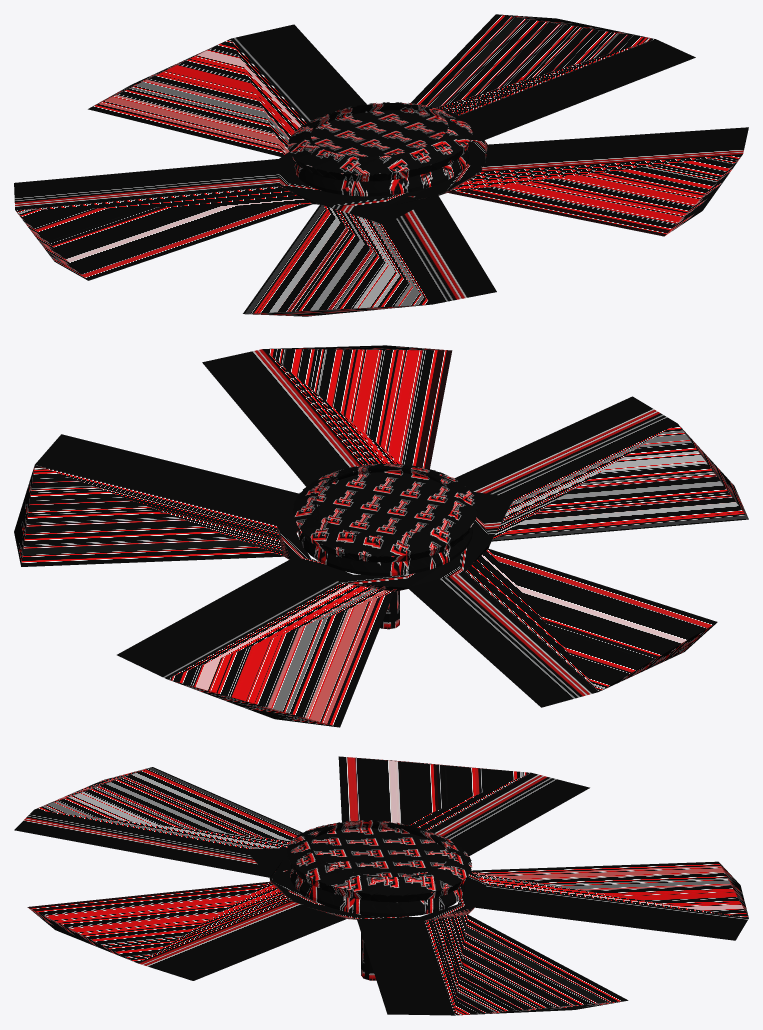
The model's file is fan.glb.
3 views of the same model, one above another, from view 1: azimuth 30°, elevation 25°; view 2: azimuth 150°, elevation 25°; view 3: azimuth 270°, elevation 25° (orthographic).
Visible parts, largest first — view 1: Cylinder; view 2: Cylinder; view 3: Cylinder.
Part boxes in pixels (x1,y1,x2,y2): Cylinder: (14,14,748,316); Cylinder: (14,345,748,727); Cylinder: (14,756,748,1015).
Bounding box in the file's own units: 5.85 × 1.16 × 5.87.
Materials: 1 (1 with a texture image).
